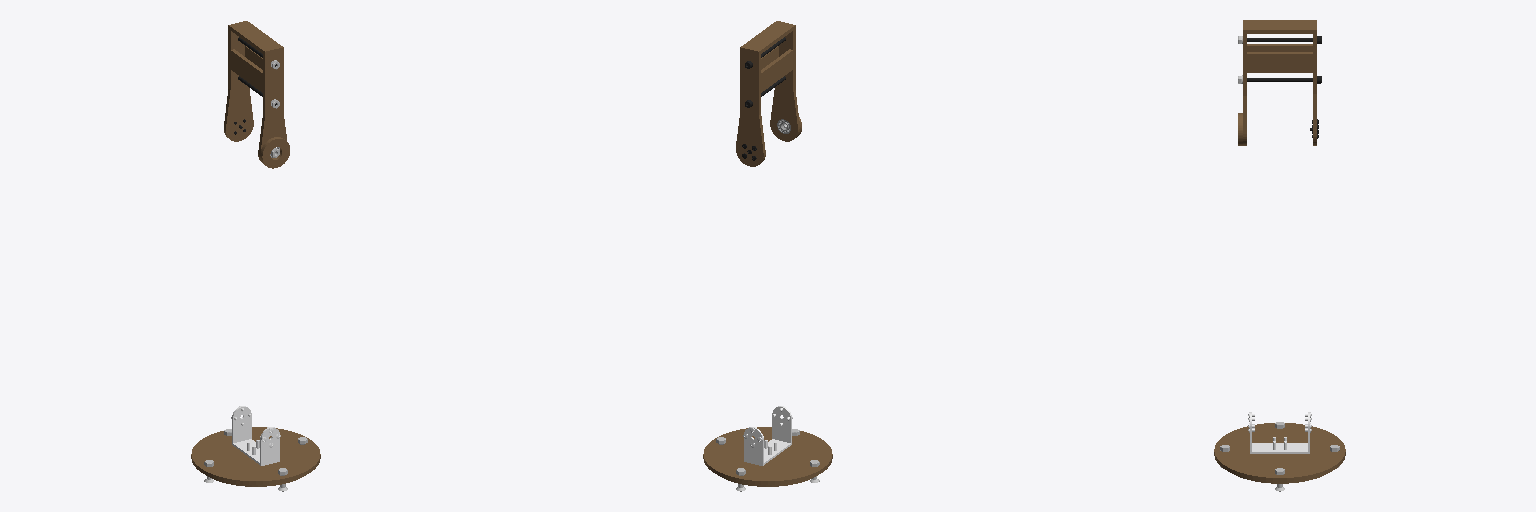
robot.urdf — arm:
<?xml version="1.0" ?>
<!-- =================================================================================== -->
<!-- |    This document was autogenerated by xacro from arm.xacro                      | -->
<!-- |    EDITING THIS FILE BY HAND IS NOT RECOMMENDED                                 | -->
<!-- =================================================================================== -->
<robot name="arm" xmlns:xacro="http://www.ros.org/wiki/xacro">
  <!--Joints-->
  <!--Cylinder-->
  <!--Rectangular  Prism-->
  <!--Cylinder Mesh-->
  <!--Box Mesh-->
  <!-- ros_control plugin -->
  <!-- base_link -->

  <!-- Gazebo Stuff -->
  <gazebo reference="dummy_link">
  </gazebo>
  <gazebo reference="base_link">
  </gazebo>
  <!-- plat_link -->
  <gazebo reference="plat_link">
    <dampingFactor>1</dampingFactor>
  </gazebo>
  <!-- lock_link -->
  <gazebo reference="lock_link">
    <dampingFactor>1</dampingFactor>
  </gazebo>
  <!-- shoulder_link -->
  <gazebo reference="shoulder_link">
    <dampingFactor>1</dampingFactor>
  </gazebo>
  <!-- forearm_link -->
  <gazebo reference="forearm_link">
    <dampingFactor>1</dampingFactor>
  </gazebo>
  <!-- wrist_link -->
  <gazebo reference="wrist_link">
    <dampingFactor>1</dampingFactor>
  </gazebo>
  <create/>
  <gazebo>
    <plugin filename="libgazebo_ros_control.so" name="gazebo_ros_control">
      <robotSimType>gazebo_ros_control/DefaultRobotHWSim</robotSimType>
      <robotNamespace>/arm</robotNamespace>
      <legacyModeNS>true</legacyModeNS>
    </plugin>
  </gazebo>

  
  <link name="dummy_link"/>
   <!--Dummy Link-->
  <joint name="dummy_joint" type="fixed">
    <parent link="dummy_link"/>
    <child link="base_link"/>
  </joint>

  <!--Base Link-->
  <link name="base_link">
    <inertial>s
      <mass value="1.0"/>
      <origin rpy="0 0 0" xyz="0 0 0"/>
      <inertia ixx="0.00153508333333" ixy="0" ixz="0" iyy="0.00153508333333" iyz="0" izz="0.00245"/>
    </inertial>
    <collision>
      <origin rpy="0 0 0" xyz="0 0 0"/>
      <geometry>
        <cylinder length="0.061" radius="0.07"/>
      </geometry>
    </collision>
    <visual>
      <origin rpy="0 0 0" xyz="0 0 0"/>
      <geometry>
        <mesh filename="package://arm_description/meshes/base_link.dae" scale="1 1 1"/>
      </geometry>
      <material name="light_black"/>
    </visual>
  </link>
  <!--Plat Joint-->
  <joint name="plat_joint" type="revolute">
    <parent link="base_link"/>
    <child link="plat_link"/>
    <origin rpy="0 0 0" xyz="0 0 0.0305"/>
    <limit effort="10" lower="-1.5" upper="1.5" velocity="0.5"/>
    <axis xyz="0 0 1"/>
  </joint>


  <transmission name="trans_plat">
    <type> transmission_interface/SimpleTransmission</type>
    <joint name="plat_joint">
      <hardwareInterface>hardware_interface/PositionJointInterface</hardwareInterface>
    </joint>
    <actuator name="motor_plat">
      <hardwareInterface>hardware_interface/PositionJointInterface</hardwareInterface>
      <mechanicalReduction>1</mechanicalReduction>
    </actuator>
  </transmission>
  
  <!--Plat Link-->
  <link name="plat_link">
    <inertial>
      <mass value="0.072"/>
      <origin rpy="0 0 0" xyz="0 0 0.004"/>
      <inertia ixx="6.5184e-05" ixy="0" ixz="0" iyy="6.5184e-05" iyz="0" izz="0.0001296"/>
    </inertial>
    <collision>
      <origin rpy="0 0 0" xyz="0 0 0.004"/>
      <geometry>
        <cylinder length="0.008" radius="0.06"/>
      </geometry>
    </collision>
    <visual>
      <origin rpy="0 0 0" xyz="0 0 0.004"/>
      <geometry>
        <mesh filename="package://arm_description/meshes/plat_link.dae" scale="1 1 1"/>
      </geometry>
      <material name="light_black"/>
    </visual>
  </link>
  <!--Lock Joint-->
  <joint name="lock_joint" type="fixed">
    <parent link="plat_link"/>
    <child link="lock_link"/>
    <origin rpy="0 0 0" xyz="0 0 0.004"/>
    <!--limit effort="0.1" lower="-1.5" upper="1.5" velocity="0.5"/-->
    <axis xyz="0 0 1"/>
  </joint>
  <!--Lock Link-->
  <link name="lock_link">
    <inertial>
      <mass value="0.001"/>
      <origin rpy="0 0 0" xyz="0 0 0.0185"/>
      <inertia ixx="1.47416666667e-07" ixy="0" ixz="0" iyy="3.66166666667e-07" iyz="0" izz="2.85416666667e-07"/>
    </inertial>
    <collision>
      <origin rpy="0 0 0" xyz="0 0 0.0185"/>
      <geometry>
        <box size="0.02 0.055 0.037"/>
      </geometry>
    </collision>
    <visual>
      <origin rpy="0 0 0" xyz="0 0 0.0185"/>
      <geometry>
        <mesh filename="package://arm_description/meshes/lock_link.dae" scale="1 1 1"/>
      </geometry>
      <material name="light_black"/>
    </visual>
  </link>
  <!--Shoulder Joint-->
  <joint name="shoulder_joint" type="revolute">
    <parent link="lock_link"/>
    <child link="shoulder_link"/>
    <origin rpy="0 0 0" xyz="0 0 0.0265"/>
    <limit effort="10" lower="-1.5" upper="1.5" velocity="0.5"/>
    <axis xyz="0 1 0"/>
  </joint>
  <transmission name="trans_shoulder">
    <type> transmission_interface/SimpleTransmission</type>
    <joint name="shoulder_joint">
      <hardwareInterface>hardware_interface/PositionJointInterface</hardwareInterface>
    </joint>
    <actuator name="motor_shoulder">
      <hardwareInterface>hardware_interface/PositionJointInterface</hardwareInterface>
      <mechanicalReduction>1</mechanicalReduction>
    </actuator>
  </transmission>
  <!--Shoulder Link-->
  <link name="shoulder_link">
    <inertial>
      <mass value="0.163"/>
      <origin rpy="0 0 0" xyz="0 0 0.098"/>
      <inertia ixx="0.000639177333333" ixy="0" ixz="0" iyy="0.000700302333333" iyz="0" izz="7.19916666667e-05"/>
    </inertial>
    <collision>
      <origin rpy="0 0 0" xyz="0 0 0.098"/>
      <geometry>
        <box size="0.02 0.07 0.216"/>
      </geometry>
    </collision>
    <visual>
      <origin rpy="0 0 0" xyz="0 0 0.098"/>
      <geometry>
        <mesh filename="package://arm_description/meshes/shoulder_link.dae" scale="1 1 1"/>
      </geometry>
      <material name="light_black"/>
    </visual>
  </link>
  <!--Forearm Joint-->
  <joint name="forearm_joint" type="revolute">
    <parent link="shoulder_link"/>
    <child link="forearm_link"/>
    <origin rpy="0 0 0" xyz="0 0 0.191"/>
    <limit effort="10" lower="-1.5" upper="1.5" velocity="0.5"/>
    <axis xyz="0 1 0"/>
  </joint>
  <transmission name="trans_forearm">
    <type> transmission_interface/SimpleTransmission</type>
    <joint name="forearm_joint">
      <hardwareInterface>hardware_interface/PositionJointInterface</hardwareInterface>
    </joint>
    <actuator name="motor_forearm">
      <hardwareInterface>hardware_interface/PositionJointInterface</hardwareInterface>
      <mechanicalReduction>1</mechanicalReduction>
    </actuator>
  </transmission>
  <!--Forearm Link-->
  <link name="forearm_link">
    <inertial>
      <mass value="0.217"/>
      <origin rpy="0 0 0" xyz="0 0 0.055"/>
      <inertia ixx="0.00042315" ixy="0" ixz="0" iyy="0.000471975" iyz="0" izz="8.1375e-05"/>
    </inertial>
    <collision>
      <origin rpy="0 0 0" xyz="0 0 0.055"/>
      <geometry>
        <box size="0.03 0.06 0.150"/>
      </geometry>
    </collision>
    <visual>
      <origin rpy="0 0 0" xyz="0 0 0.055"/>
      <geometry>
        <mesh filename="package://arm_description/meshes/forearm_link.dae" scale="1 1 1"/>
      </geometry>
      <material name="light_black"/>
    </visual>
  </link>
  <!--Wrist Joint-->
  <joint name="wrist_joint" type="revolute">
    <parent link="forearm_link"/>
    <child link="wrist_link"/>
    <origin rpy="0 0 0" xyz="0 0 0.110"/>
    <limit effort="1000" lower="-2.5" upper="2.5" velocity="0.5"/>
    <axis xyz="0 1 0"/>
  </joint>
  <transmission name="trans_wrist">
    <type> transmission_interface/SimpleTransmission</type>
    <joint name="wrist_joint">
      <hardwareInterface>hardware_interface/PositionJointInterface</hardwareInterface>
    </joint>
    <actuator name="motor_wrist">
      <hardwareInterface>hardware_interface/PositionJointInterface</hardwareInterface>
      <mechanicalReduction>1</mechanicalReduction>
    </actuator>
  </transmission>
  <!--Wrist Link-->
  <link name="wrist_link">
    <inertial>
      <mass value="0.057"/>
      <origin rpy="0 0 0" xyz="0 0 0.045"/>
      <inertia ixx="7.03e-05" ixy="0" ixz="0" iyy="9.1675e-05" iyz="0" izz="2.5175e-05"/>
    </inertial>
    <collision>
      <origin rpy="0 0 0" xyz="0 0 0.045"/>
      <geometry>
        <box size="0.02 0.07 0.120"/>
      </geometry>
    </collision>
    <visual>
      <origin rpy="0 0 0" xyz="0 0 0.045"/>
      <geometry>
        <mesh filename="package://arm_description/meshes/wrist_link.dae" scale="1 1 1"/>
      </geometry>
      <material name="light_black"/>
    </visual>
  </link>
  <!-- Dummy End Effector -->
  <link name="dummy_eef">
  </link>
  <!-- Dummy End Effector -->
  <joint name="eef_joint" type="fixed">
    <origin rpy="0 0 0" xyz="0 0 0.120"/>
    <parent link="wrist_link"/>
    <child link="dummy_eef"/>
  </joint>

  <link name="world"/>
  <joint name="fixed" type="fixed">
    <parent link="world"/>
    <child link="dummy_link"/>
    <origin xyz="0.0 0.0 0.0" rpy="0.0 0.0 0.0" />
  </joint>

</robot>

--- Render facts (derived) ---
3 views of the same robot in one strip: view 1: azimuth 30°, elevation 25°; view 2: azimuth 150°, elevation 25°; view 3: azimuth 270°, elevation 25° (orthographic).
Model arm with 9 links and 8 joints (4 revolute, 4 fixed), rooted at world, posed all joints at 0.
Visible links, largest first — view 1: wrist_link, plat_link, lock_link; view 2: wrist_link, plat_link, lock_link; view 3: plat_link, wrist_link, lock_link.
Link boxes in pixels (x1,y1,x2,y2): wrist_link: (224,21,289,168); plat_link: (191,427,320,491); lock_link: (231,406,280,465); wrist_link: (736,21,801,166); plat_link: (703,427,832,491); lock_link: (743,406,792,465); plat_link: (1214,422,1345,491); wrist_link: (1238,20,1321,145); lock_link: (1248,412,1311,453).
Bounding box of the posed robot: 0.12 × 0.12 × 0.4445 m (x, y, z).
3 mesh visuals loaded from 6 distinct referenced files (3 Collada DAE); not drawn: 3 (reference not matched to a file when rendering).